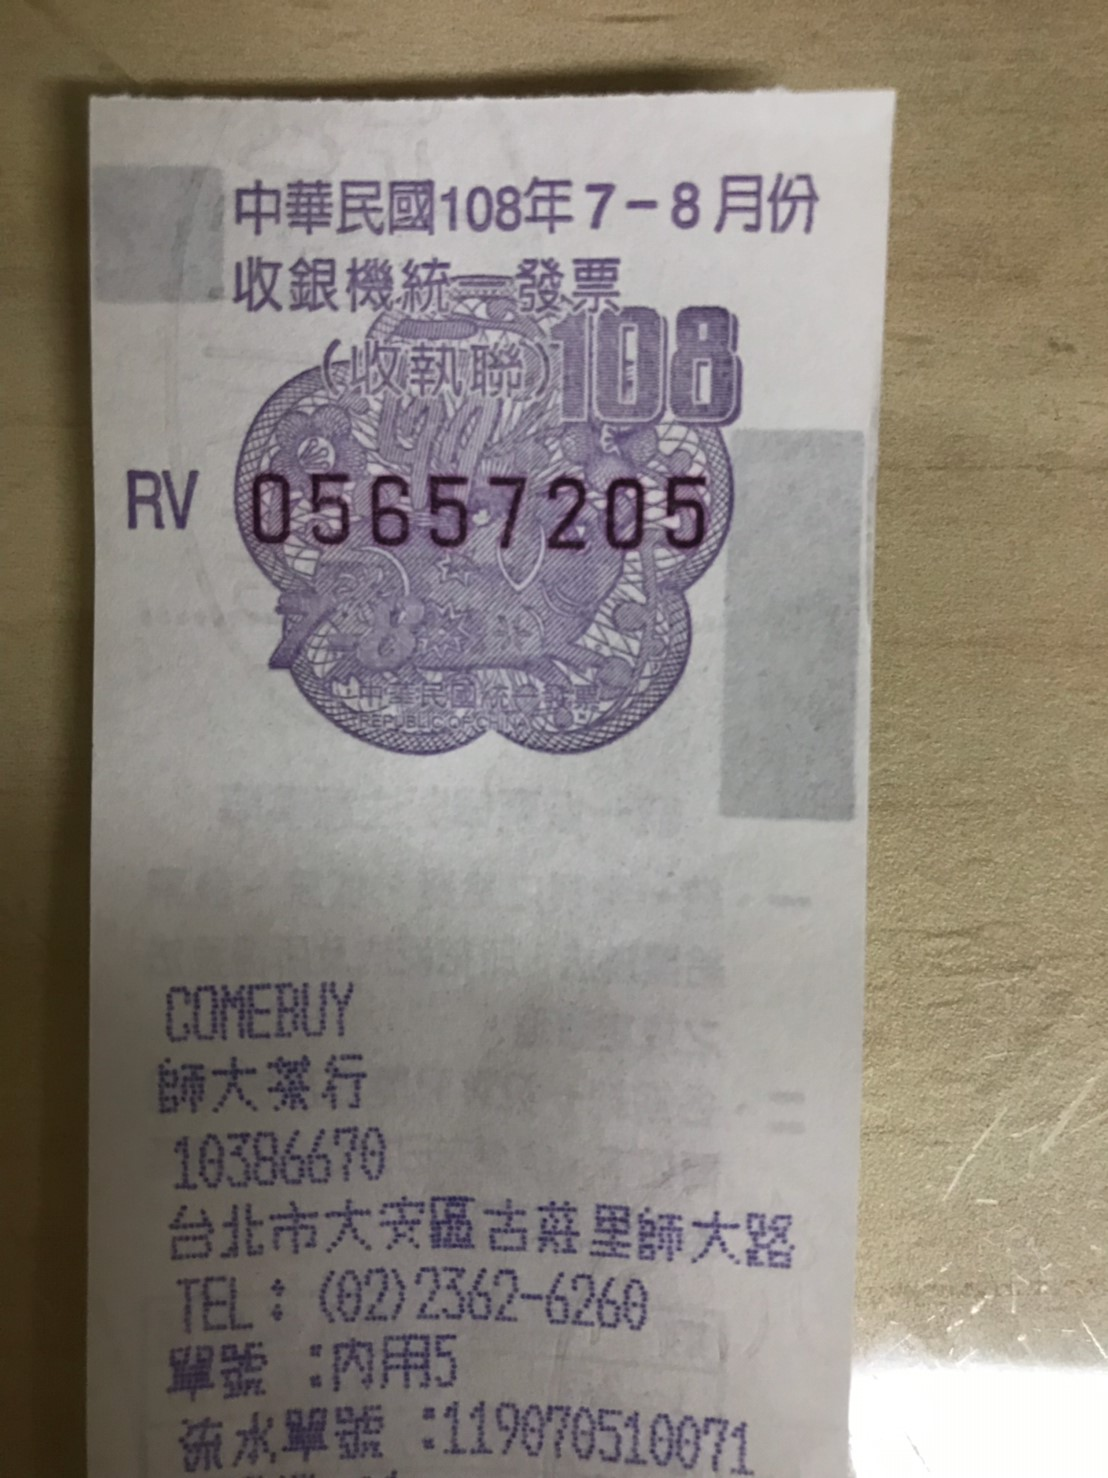Date_Old: (440, 161, 823, 236)
Number_Old: (248, 463, 713, 556)
